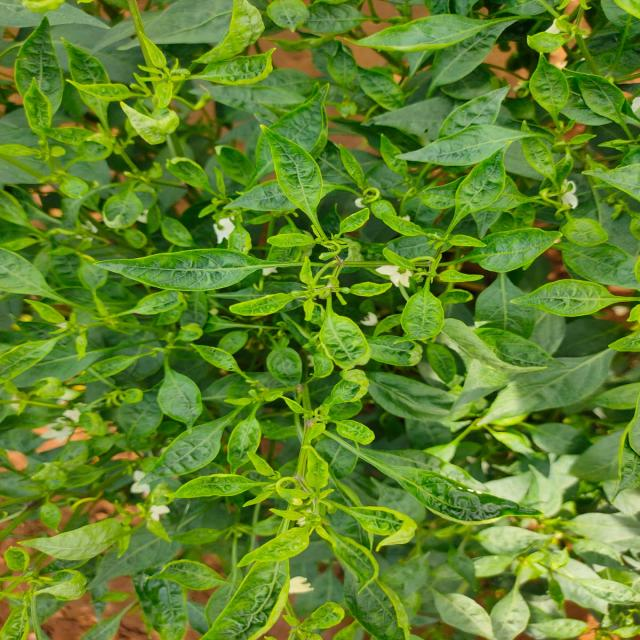Moko: (128, 455, 468, 640), (146, 371, 458, 511), (247, 154, 442, 359), (0, 0, 257, 150), (419, 0, 630, 135), (0, 167, 240, 281)
